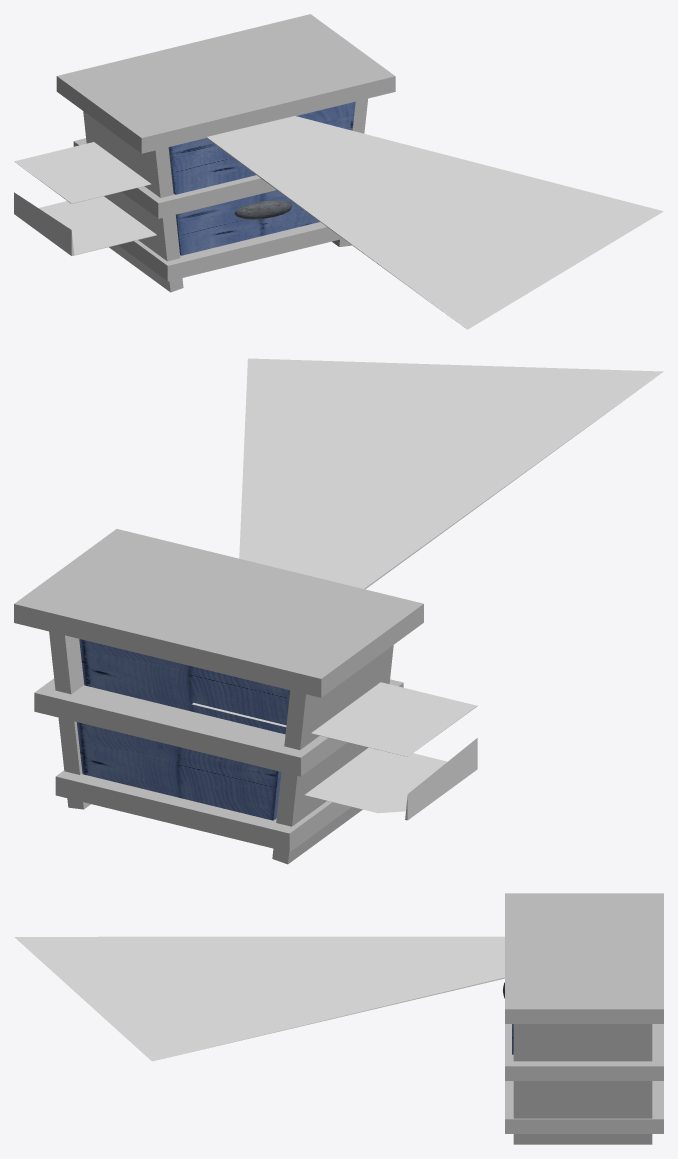
Rendered from drawer1.fbx.
3 views of the same model, one above another, from view 1: azimuth 30°, elevation 25°; view 2: azimuth 150°, elevation 25°; view 3: azimuth 270°, elevation 25° (orthographic). The views are drawn at different scales.
Parts seen in each view (by area): view 1: Cutter.002, Cube.002, Extraction, Cube, Cube.004, Cube.006, Cube.005, Cube.003, Cube.008, Cube.001; view 2: Cutter.002, Cube.002, Extraction, Cube.003, Cube.006, Cube.005, Cube.004, Cube, Cube.001; view 3: Cutter.002, Cube.002, Cube.001, Cube.003, Cube.004.
Boxes of the visible parts, x1=… form: Cutter.002: x1=206, y1=116, x2=663, y2=329; Cube.002: x1=56, y1=14, x2=395, y2=153; Extraction: x1=14, y1=142, x2=156, y2=255; Cube: x1=83, y1=111, x2=183, y2=292; Cube.004: x1=118, y1=222, x2=342, y2=281; Cube.006: x1=176, y1=190, x2=319, y2=255; Cube.005: x1=168, y1=101, x2=355, y2=194; Cube.003: x1=73, y1=138, x2=276, y2=218; Cube.008: x1=234, y1=200, x2=291, y2=219; Cube.001: x1=332, y1=98, x2=367, y2=246; Cutter.002: x1=239, y1=358, x2=663, y2=589; Cube.002: x1=14, y1=529, x2=423, y2=697; Extraction: x1=191, y1=682, x2=477, y2=820; Cube.003: x1=34, y1=678, x2=403, y2=776; Cube.006: x1=76, y1=722, x2=281, y2=820; Cube.005: x1=79, y1=639, x2=290, y2=734; Cube.004: x1=55, y1=770, x2=351, y2=852; Cube: x1=272, y1=645, x2=393, y2=864; Cube.001: x1=49, y1=631, x2=90, y2=809; Cutter.002: x1=14, y1=936, x2=504, y2=1061; Cube.002: x1=505, y1=893, x2=663, y2=1023; Cube.001: x1=513, y1=1024, x2=652, y2=1144; Cube.003: x1=505, y1=1024, x2=663, y2=1080; Cube.004: x1=505, y1=1081, x2=663, y2=1133.
Size of the model in its own units: 611 by 248 by 939.
